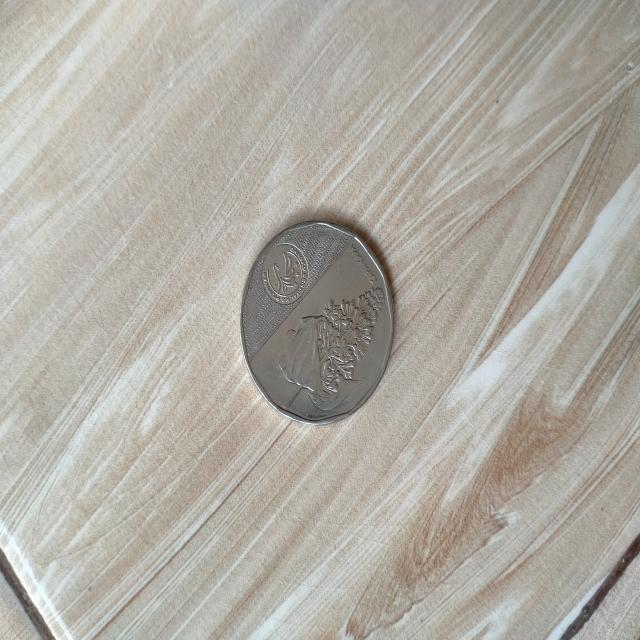10_New_Back: (277, 266, 389, 424)
